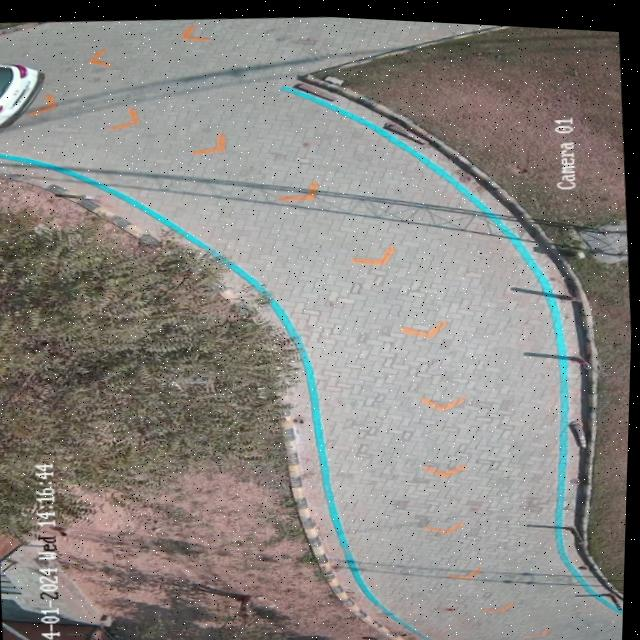car: (0, 62, 45, 128)
